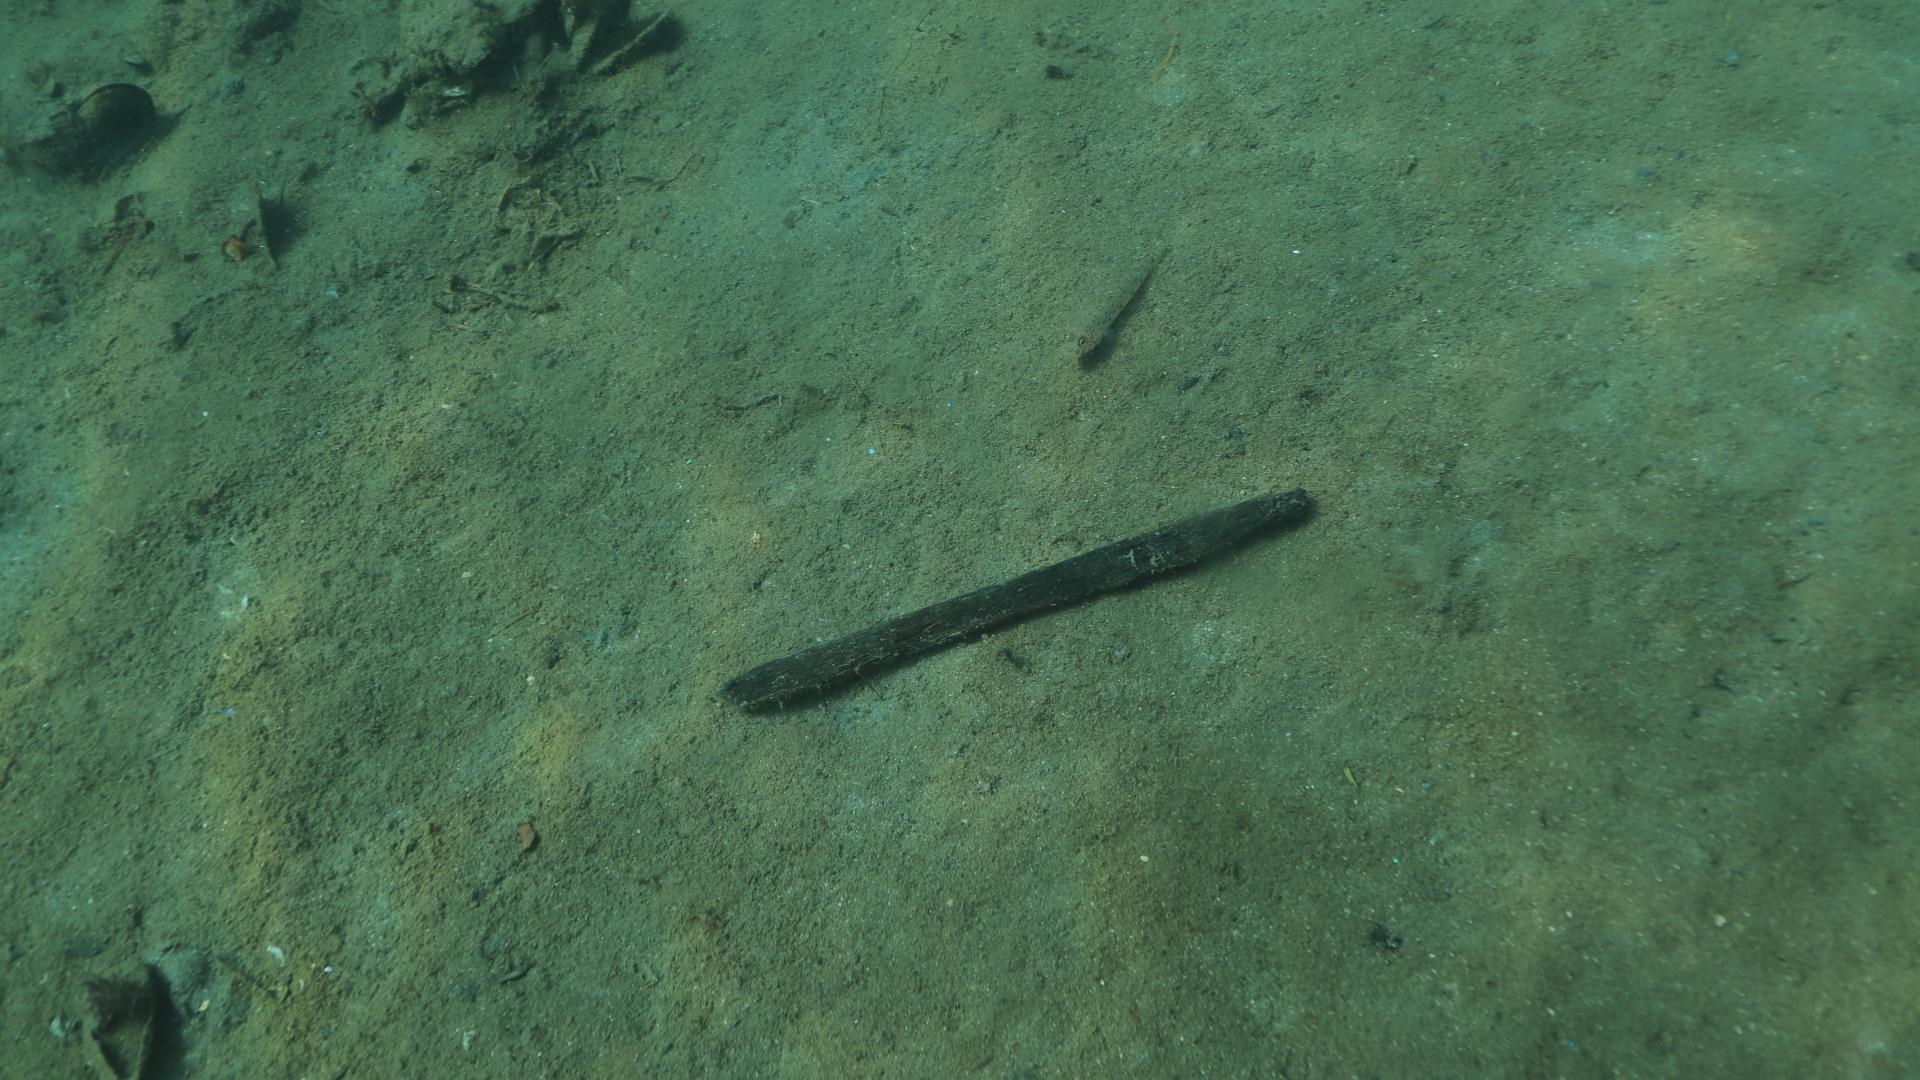wood: (719, 485, 1317, 712)
